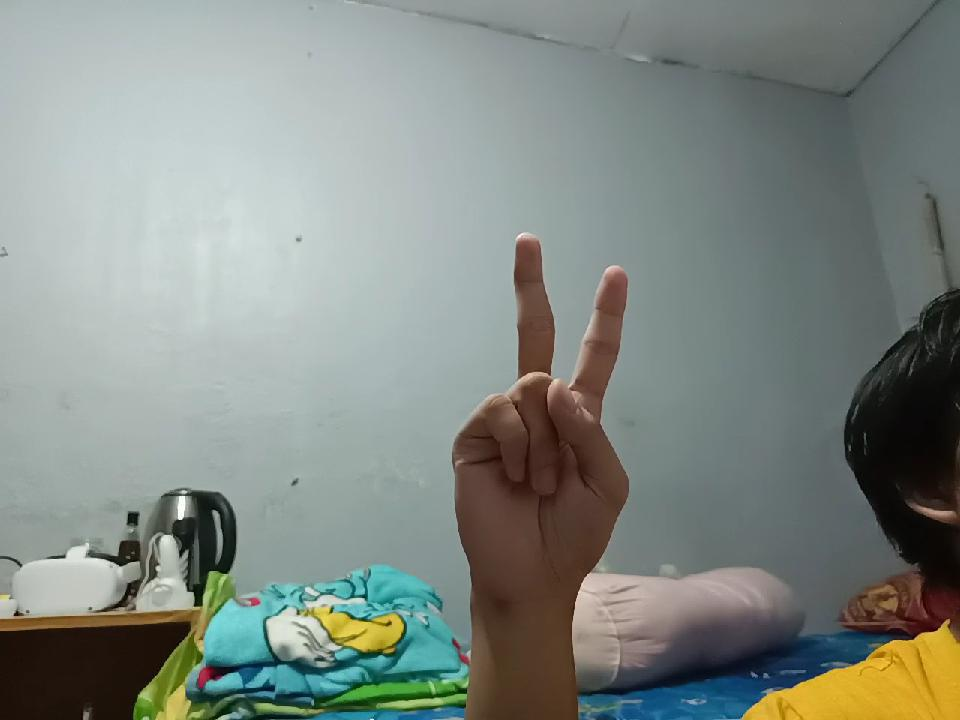scissors: (446, 206, 640, 616)
